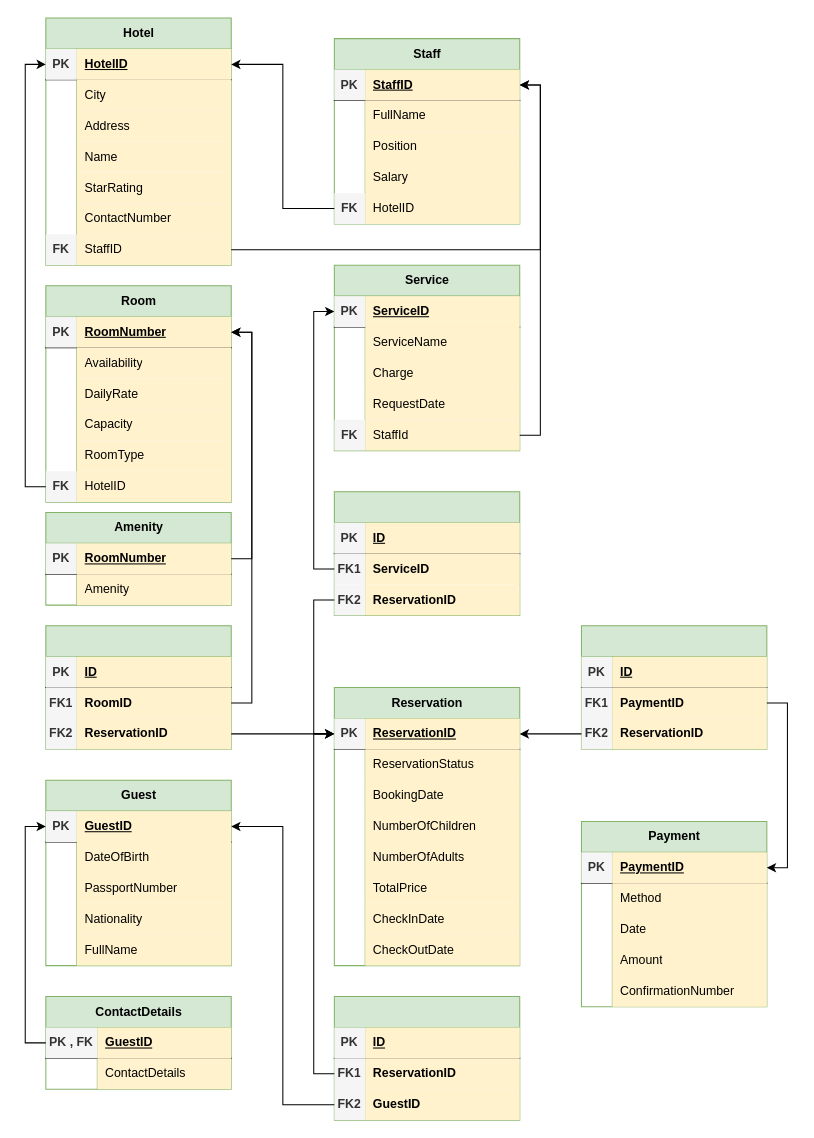
This 814x1138 diagram has some shape labels left out. Here are the shapes that lost their labels. From the top down, the box of each, then its label:
(333, 491, 520, 615): ServiceReservationRelation
(45, 625, 231, 749): RoomReservationRelation
(580, 625, 767, 749): PaymentReservationRelation
(333, 995, 520, 1120): GuestReservationRelation
